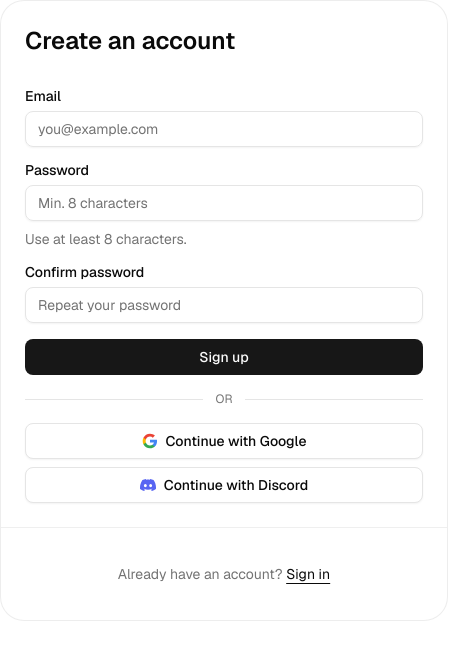
SignUpPage › validates password confirmation before submit
The image size is (465, 666).
Type "member@example.com" into the field labelled "Email".
click(224, 129); type("member@example.com")  # box [25,111,423,147]
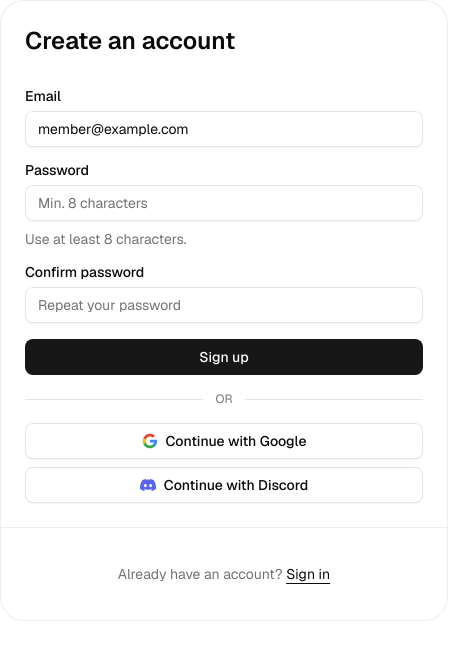
Type "password123" into the password field labelled "Password".
click(224, 203); type("password123")  # box [25,185,423,221]
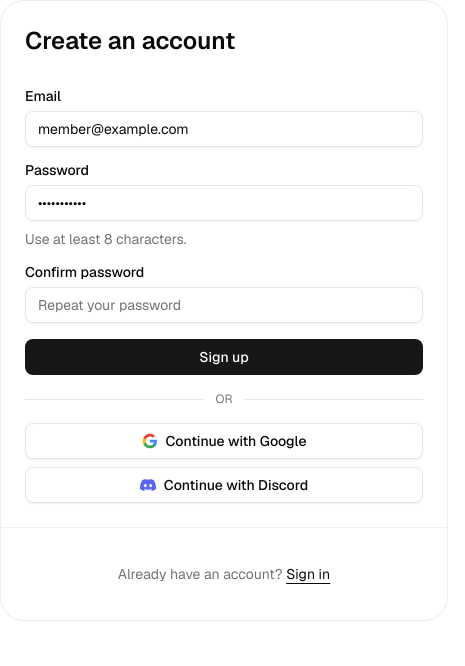
Type "different123" into the password field labelled "Confirm password".
click(224, 305); type("different123")  # box [25,287,423,323]
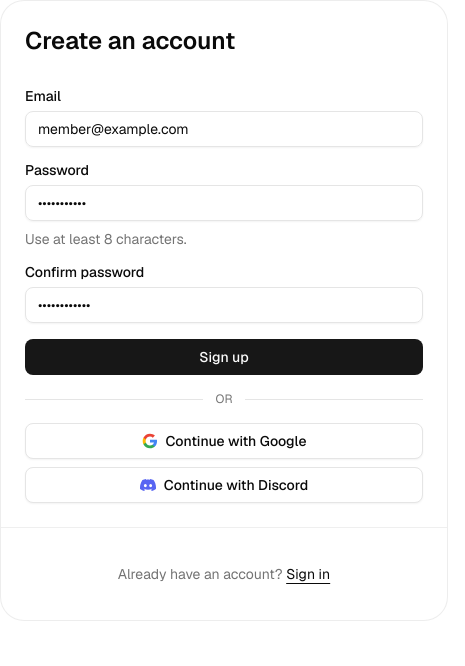
Click the button "Sign up".
click(224, 357)  # box [25,339,423,375]
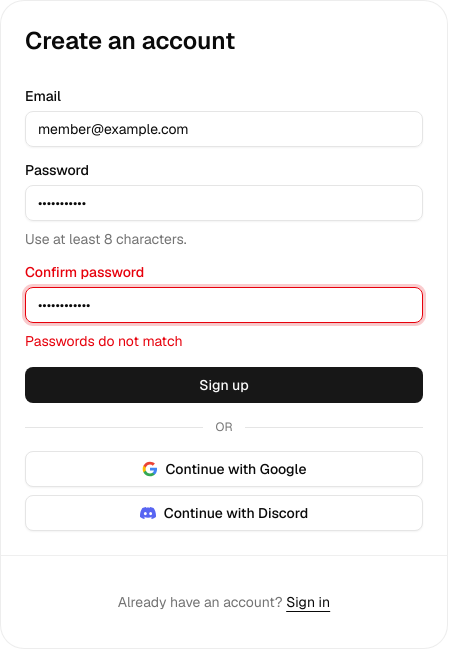
Result: the text "Passwords do not match" is shown at [25,332,182,350]
